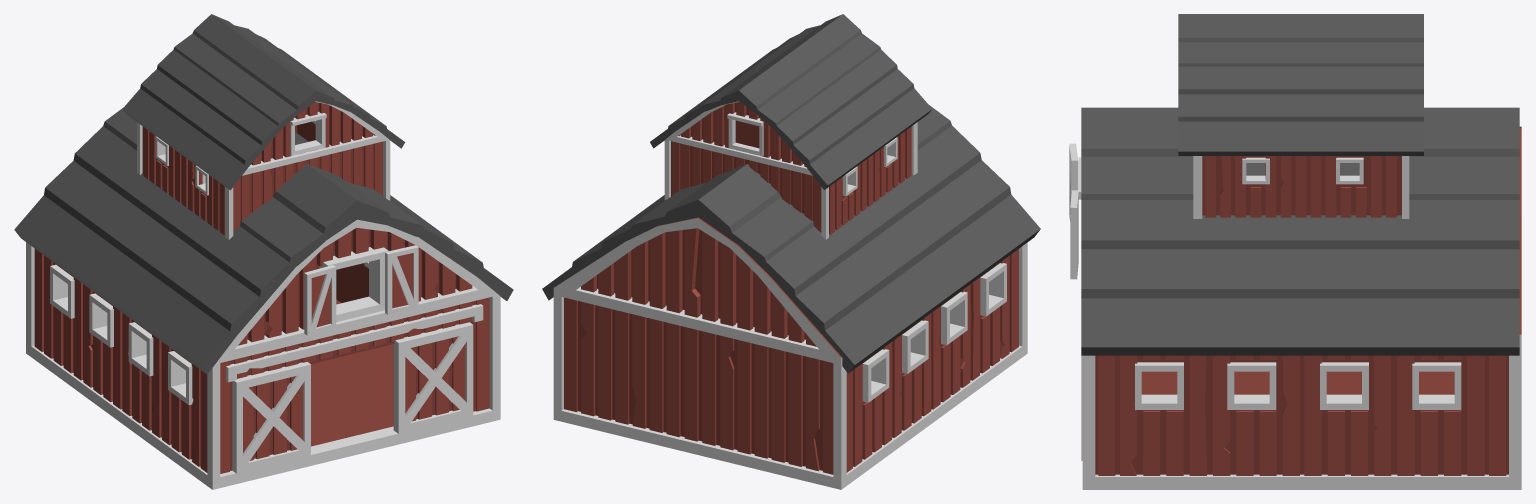
The model's file is bigbarn.glb.
The picture shows the model from 3 angles, left to right: view 1: azimuth 30°, elevation 25°; view 2: azimuth 150°, elevation 25°; view 3: azimuth 270°, elevation 25°; orthographic projection. The views are drawn at different scales.
Parts seen in each view (by area): view 1: BigBarn, BigBarn_Door, BigBarn_Door2, BigBarn_Window, BigBarn_Window2; view 2: BigBarn; view 3: BigBarn, BigBarn_Window, BigBarn_Window2.
Part boxes in pixels (box(x1,y1,x2,y2)): BigBarn: box(14, 14, 513, 489); BigBarn_Door: box(393, 322, 473, 433); BigBarn_Door2: box(232, 362, 310, 473); BigBarn_Window: box(385, 245, 418, 314); BigBarn_Window2: box(304, 265, 336, 335); BigBarn: box(542, 14, 1040, 489); BigBarn: box(1078, 14, 1521, 489); BigBarn_Window: box(1070, 190, 1078, 279); BigBarn_Window2: box(1069, 143, 1078, 221).
Bounding box in the file's own units: 7.73 × 7.89 × 8.22.
